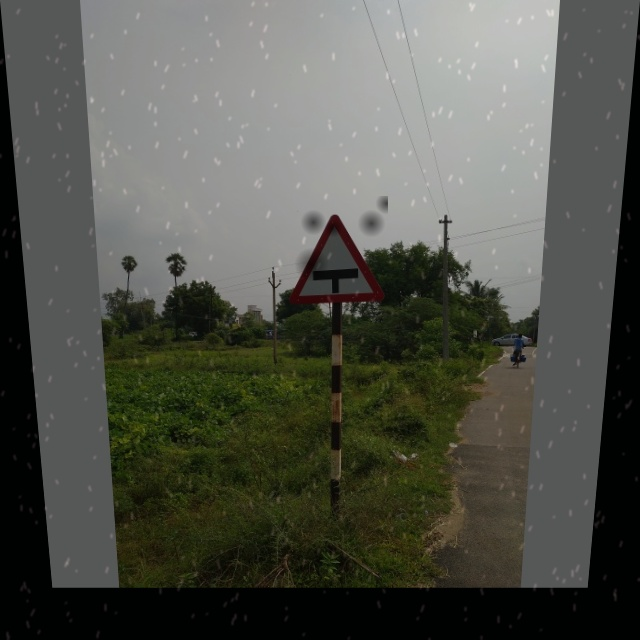T_Intersection: (276, 196, 388, 312)
